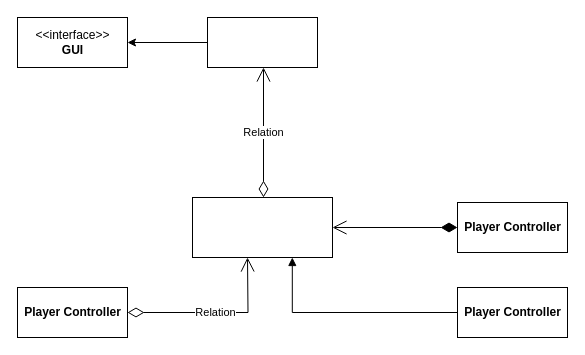
Some shapes in this 585 by 355 pixel diagram are drawn without their labels. Each missing label, with the box of its shape:
CONTROLLER: (206, 16, 318, 68)
Game: (192, 196, 332, 258)
